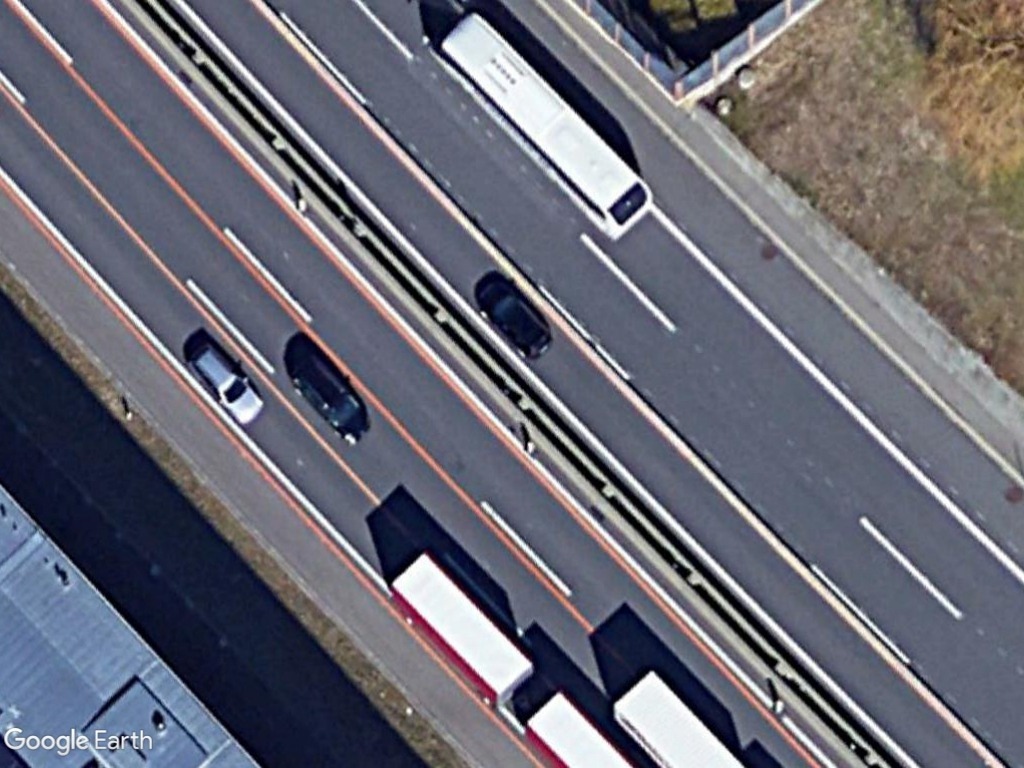bus: (428, 13, 657, 238)
car: (183, 342, 268, 427), (476, 277, 556, 361)
